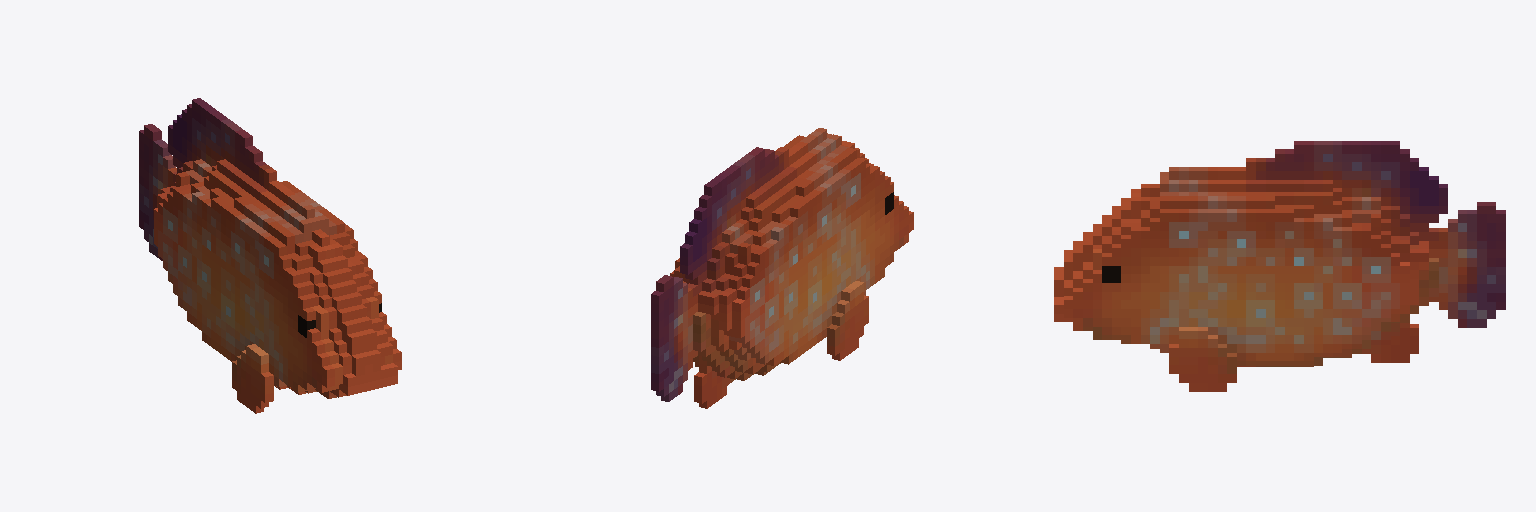
The picture shows the model from 3 angles: view 1: azimuth 30°, elevation 25°; view 2: azimuth 150°, elevation 25°; view 3: azimuth 270°, elevation 25°; orthographic projection.
Visible parts, largest first — view 1: object 1; view 2: object 1; view 3: object 1.
Part boxes in pixels (left/top/right/bottom): object 1: left=139, top=98, right=401, bottom=413; object 1: left=651, top=128, right=913, bottom=408; object 1: left=1054, top=141, right=1505, bottom=391.
Bounding box in the file's own units: 1.1 × 2.6 × 4.7.
1 materials, 1 textured.